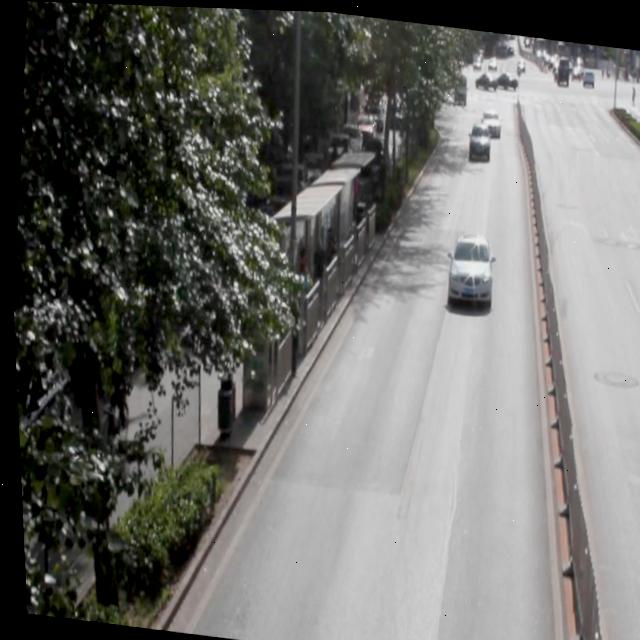car: (439, 225, 492, 307), (463, 117, 489, 159)
